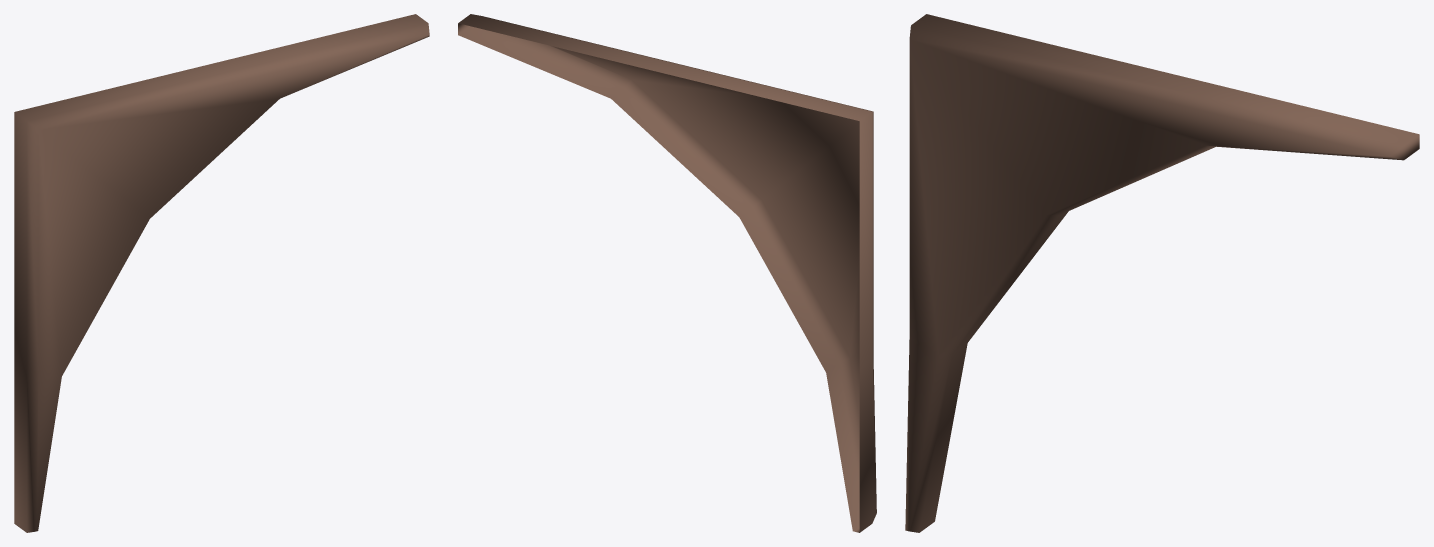
File: ArchWallMesh01.fbx
The picture shows the model from 3 angles, left to right: view 1: azimuth 30°, elevation 25°; view 2: azimuth 150°, elevation 25°; view 3: azimuth 330°, elevation 25°; orthographic projection. The views are drawn at different scales.
Parts seen in each view (by area): view 1: ArchWall01_low; view 2: ArchWall01_low; view 3: ArchWall01_low.
Part boxes in pixels (x1,y1,x2,y2): ArchWall01_low: (14,14,429,532); ArchWall01_low: (458,14,876,532); ArchWall01_low: (905,14,1419,532).
Bounding box in the file's own units: 2.89 × 2.83 × 0.2366.
